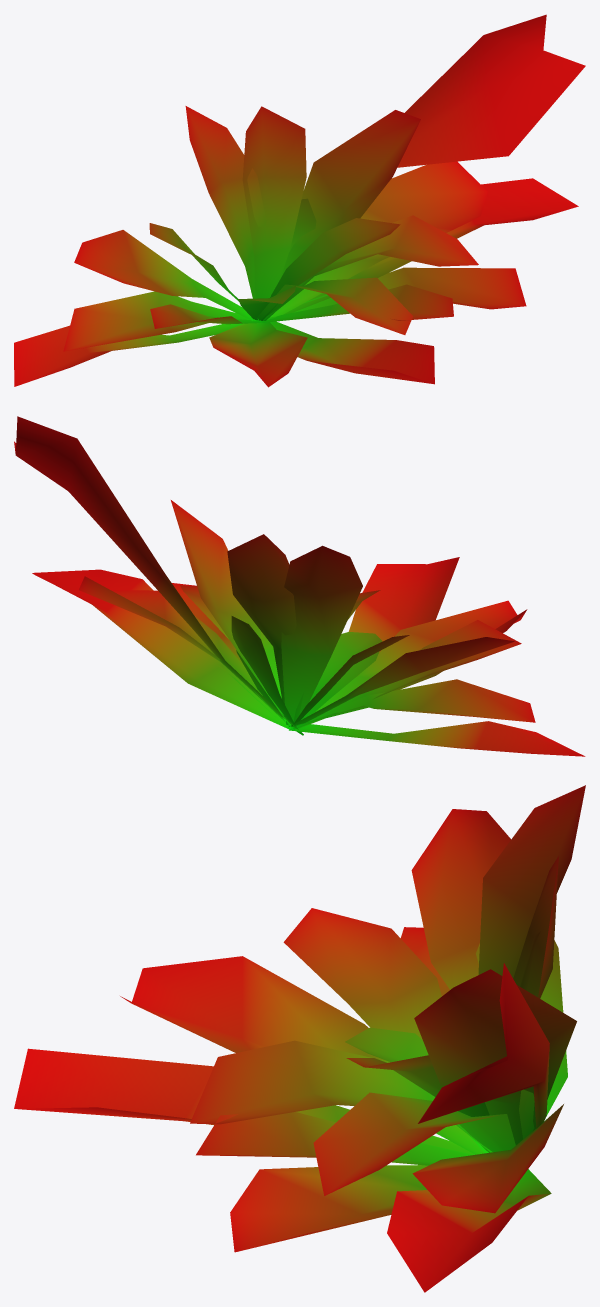
Rendered from Var26_LOD1.fbx.
3 renders of one model, top to bottom at view 1: azimuth 30°, elevation 25°; view 2: azimuth 150°, elevation 25°; view 3: azimuth 270°, elevation 25°, orthographic. The views are drawn at different scales.
Parts seen in each view (by area): view 1: _64xv_Var26_LOD1; view 2: _64xv_Var26_LOD1; view 3: _64xv_Var26_LOD1.
Boxes of the visible parts, left/top/right/bottom form: _64xv_Var26_LOD1: left=14, top=14, right=585, bottom=387; _64xv_Var26_LOD1: left=14, top=416, right=585, bottom=756; _64xv_Var26_LOD1: left=14, top=785, right=585, bottom=1292.
Size of the model in its own units: 21.84 by 9.03 by 11.71.
